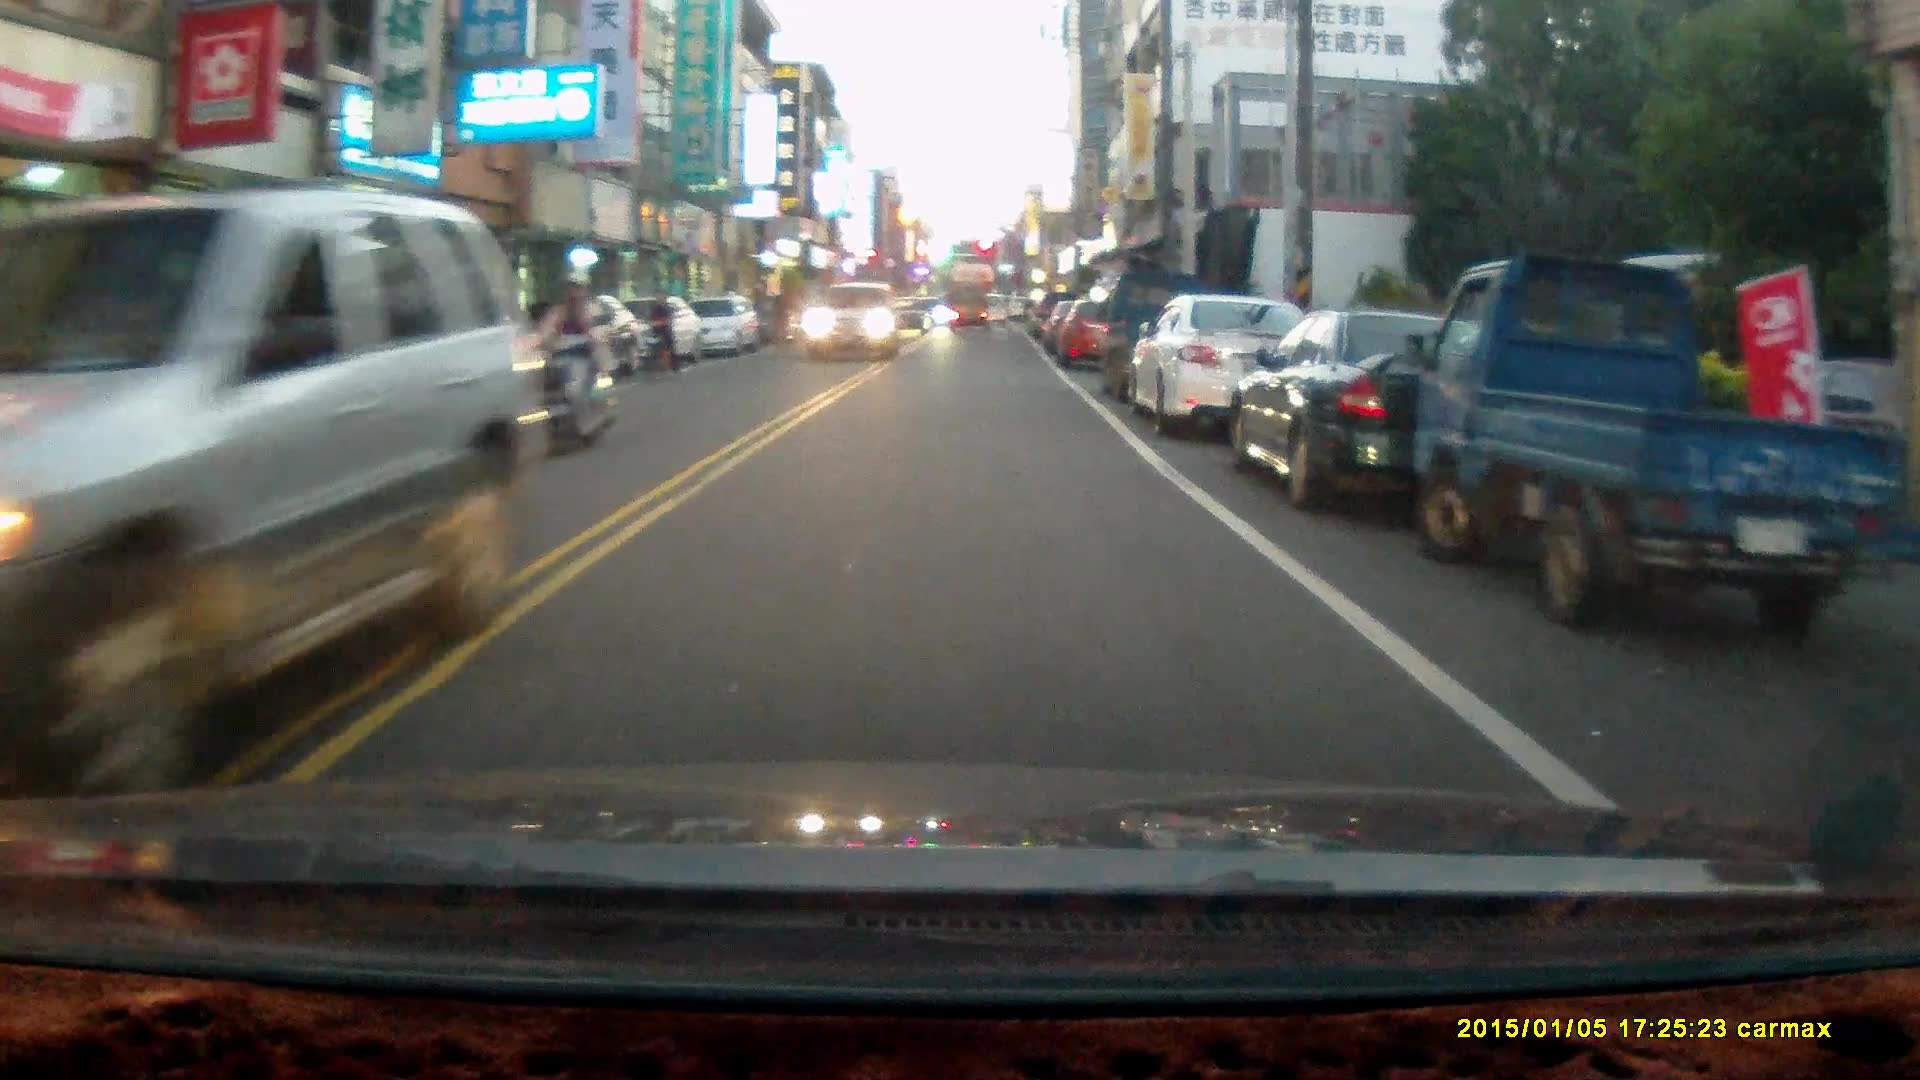pedestrian: (771, 281, 793, 342)
rider: (532, 270, 616, 457), (639, 288, 681, 378)
vehicle: (1, 188, 553, 799), (1411, 251, 1897, 631), (1231, 312, 1612, 525), (1131, 295, 1327, 444), (800, 281, 900, 361), (1058, 299, 1141, 374), (690, 295, 768, 363), (889, 294, 937, 339), (949, 284, 990, 335)
